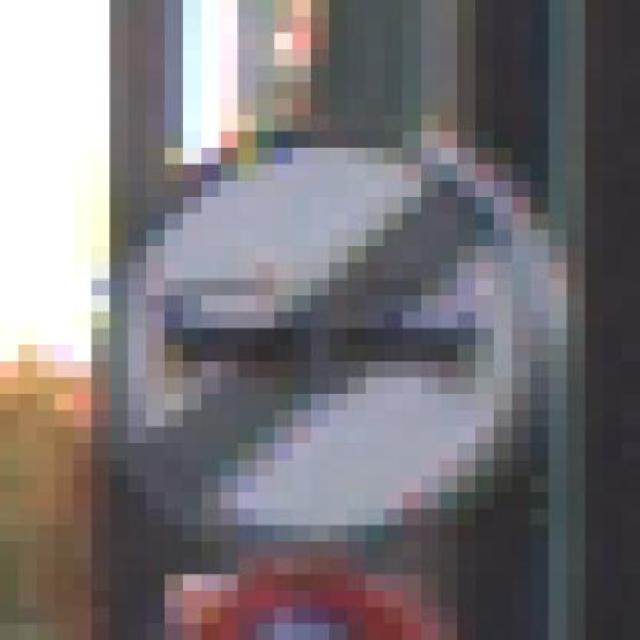No_Over_Taking: (54, 65, 586, 558)
